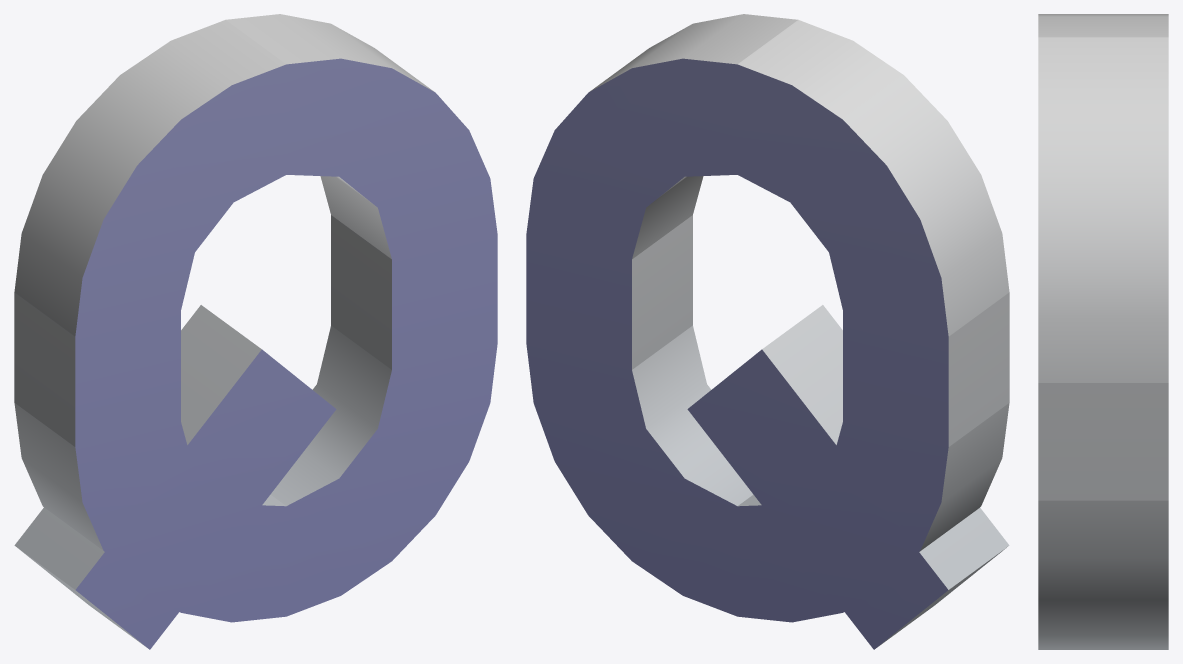
File: letter-q.glb
3 renders of one model, left to right at view 1: azimuth 30°, elevation 25°; view 2: azimuth 150°, elevation 25°; view 3: azimuth 270°, elevation 25°, orthographic. The views are drawn at different scales.
Parts seen in each view (by area): view 1: letter-q; view 2: letter-q; view 3: letter-q.
Boxes of the visible parts, x1,y1,x2,y2 form: letter-q: (14,14,497,649); letter-q: (526,14,1009,649); letter-q: (1038,14,1168,649).
Bounding box in the file's own units: 0.4 × 0.5 × 0.1.
